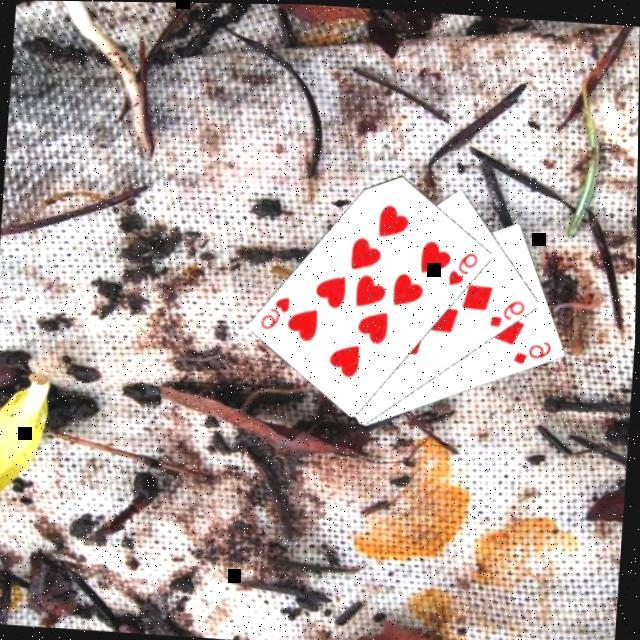6D: (510, 332, 556, 366)
9D: (486, 292, 528, 328)
9H: (256, 288, 294, 330), (446, 244, 482, 287)
